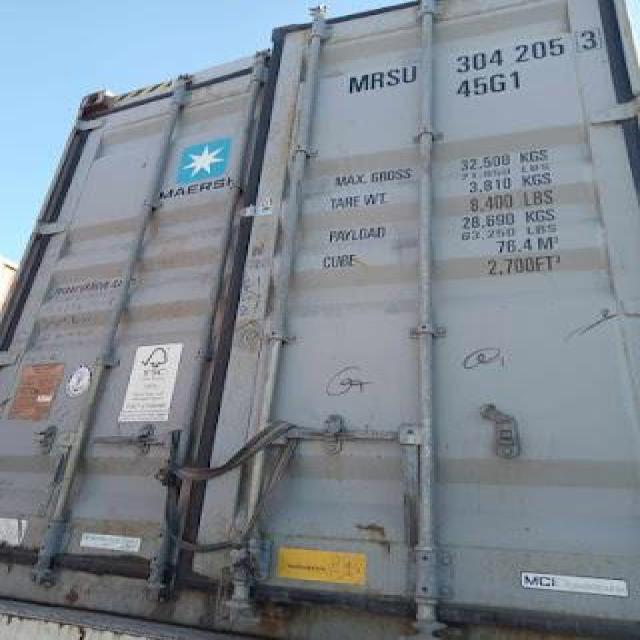ISO: (457, 70, 522, 96)
container_number: (346, 19, 606, 96)
